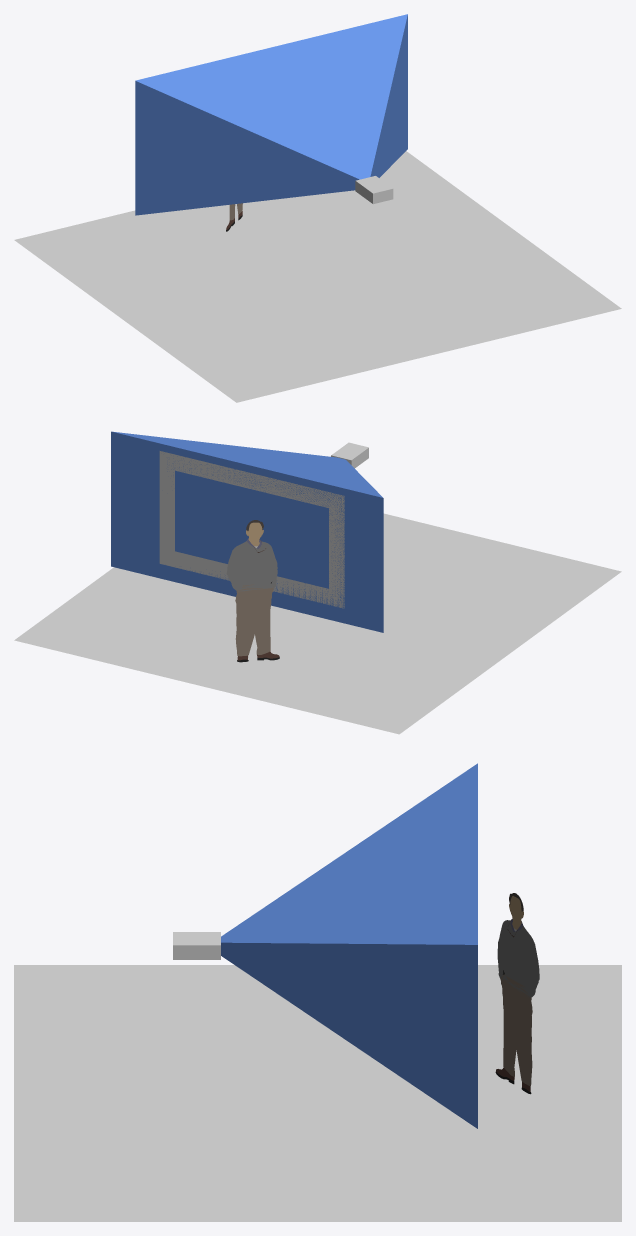
File: SET_13_CuadroFotos_Marco.obj
3 renders of one model, top to bottom at view 1: azimuth 30°, elevation 25°; view 2: azimuth 150°, elevation 25°; view 3: azimuth 270°, elevation 25°, orthographic. The views are drawn at different scales.
Parts seen in each view (by area): view 1: Mesh2 Component_9_1 Model, Mesh3 Component_67_1 Component_66_1 Component_65_1 Model, Mesh4 Component_6_1 Component_66_1 Component_65_1 Model; view 2: Mesh2 Component_9_1 Model, Mesh3 Component_67_1 Component_66_1 Component_65_1 Model, Mesh5 Component_86_1 Model, Mesh1 Derrick1 Model, Mesh4 Component_6_1 Component_66_1 Component_65_1 Model; view 3: Mesh2 Component_9_1 Model, Mesh3 Component_67_1 Component_66_1 Component_65_1 Model, Mesh1 Derrick1 Model, Mesh4 Component_6_1 Component_66_1 Component_65_1 Model.
Boxes of the visible parts, bbox=[...] form: Mesh2 Component_9_1 Model: bbox=[14, 151, 621, 402]; Mesh3 Component_67_1 Component_66_1 Component_65_1 Model: bbox=[135, 14, 407, 215]; Mesh4 Component_6_1 Component_66_1 Component_65_1 Model: bbox=[355, 176, 393, 204]; Mesh2 Component_9_1 Model: bbox=[14, 513, 621, 734]; Mesh3 Component_67_1 Component_66_1 Component_65_1 Model: bbox=[111, 431, 383, 632]; Mesh5 Component_86_1 Model: bbox=[159, 451, 344, 608]; Mesh1 Derrick1 Model: bbox=[226, 520, 279, 662]; Mesh4 Component_6_1 Component_66_1 Component_65_1 Model: bbox=[331, 442, 368, 468]; Mesh2 Component_9_1 Model: bbox=[14, 965, 621, 1221]; Mesh3 Component_67_1 Component_66_1 Component_65_1 Model: bbox=[221, 763, 477, 1128]; Mesh1 Derrick1 Model: bbox=[495, 893, 539, 1094]; Mesh4 Component_6_1 Component_66_1 Component_65_1 Model: bbox=[173, 932, 220, 959].
Bounding box in the file's own units: 5000 × 2246 × 5000.
